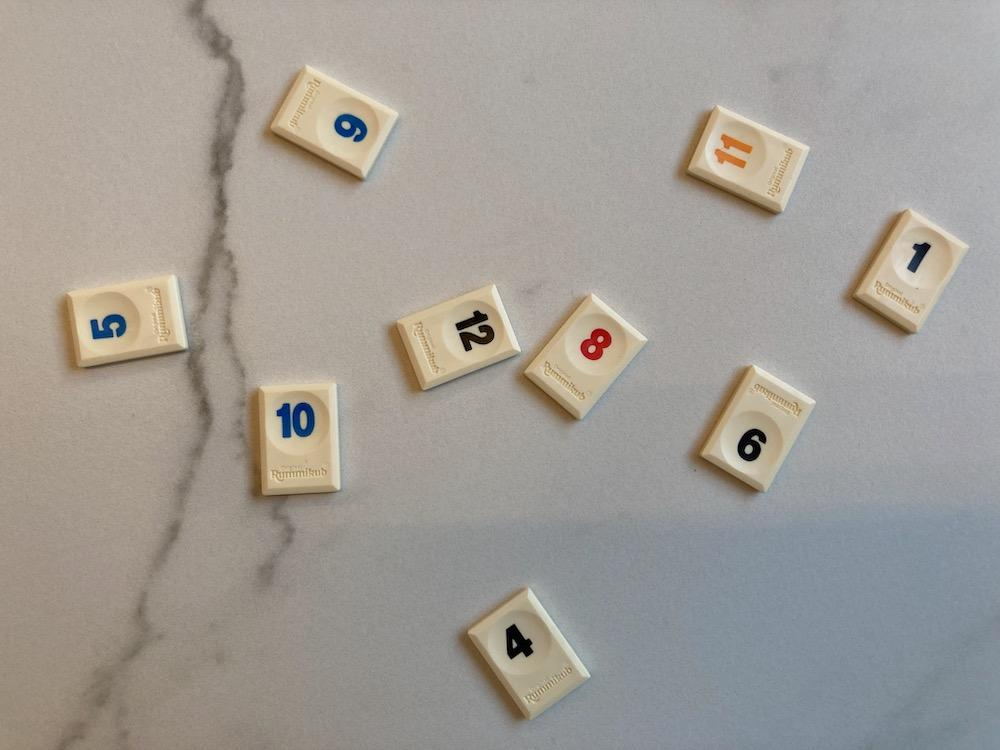black_1: (854, 209, 969, 332)
black_12: (397, 285, 520, 389)
black_4: (470, 588, 590, 719)
black_9: (703, 365, 814, 492)
blue_10: (258, 384, 339, 496)
blue_5: (66, 275, 188, 367)
blue_6: (271, 66, 398, 178)
orange_11: (688, 105, 809, 213)
red_8: (525, 295, 646, 420)
